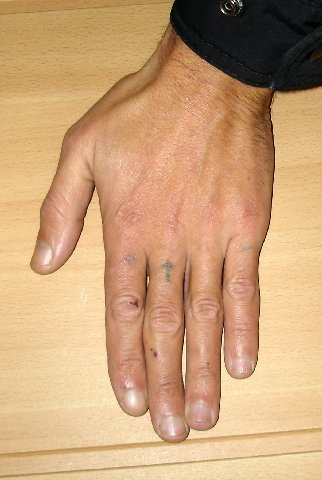tatu9_krest: (161, 255, 180, 291)
